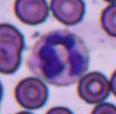N: (32, 30, 89, 85)
